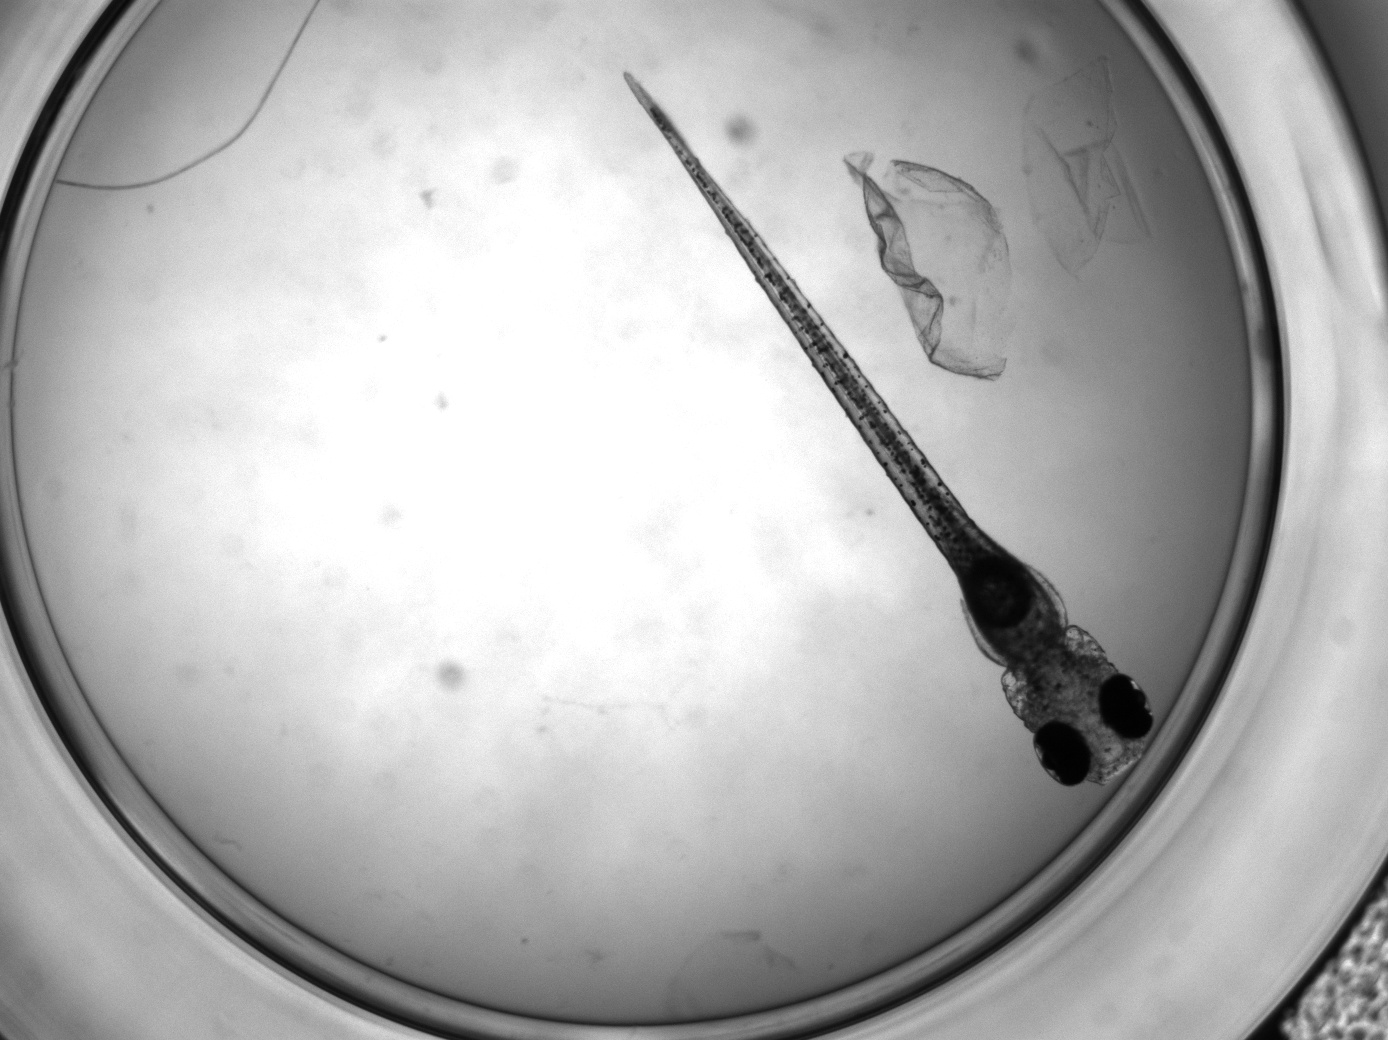debris: (843, 149, 1012, 385), (1018, 55, 1154, 284)
embryo: (621, 69, 1156, 787)
eye: (1096, 674, 1155, 743), (1033, 722, 1094, 787)
yolksac: (954, 548, 1068, 667)
